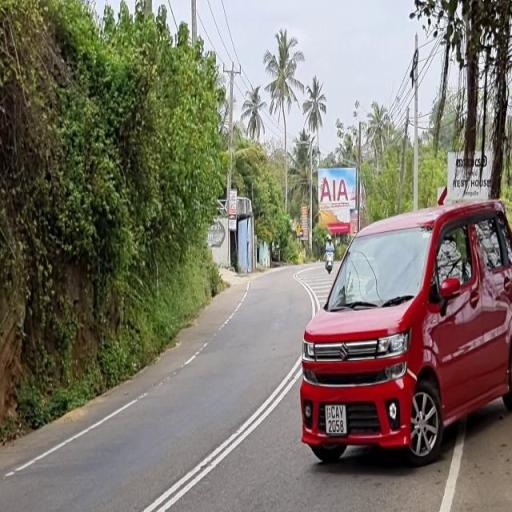double_white_line: (140, 357, 302, 512)
